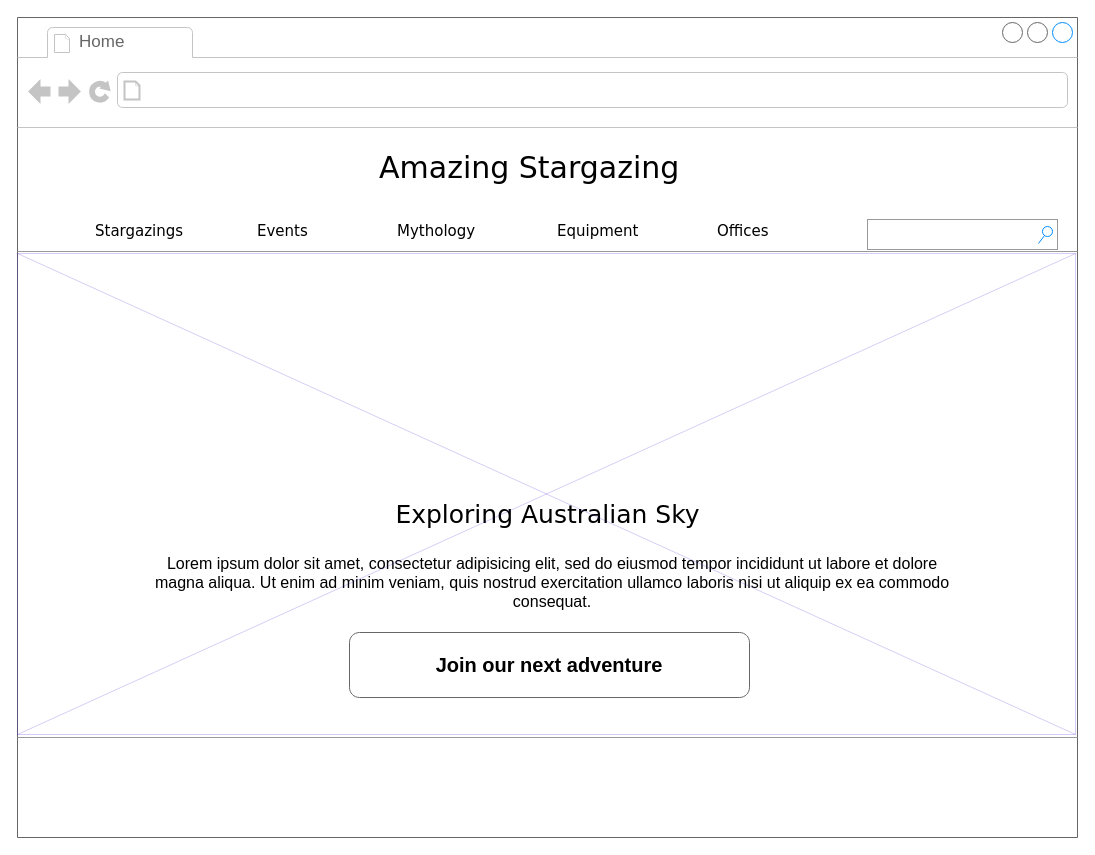
Image size: 1095x855. Some labels were removed from this diagram. Here are the shapes that lost their labels. From the top down, the centre of each, then its label:
At (272,92): "https://www.amazingstargazing.com".
At (962,234): "Search".
